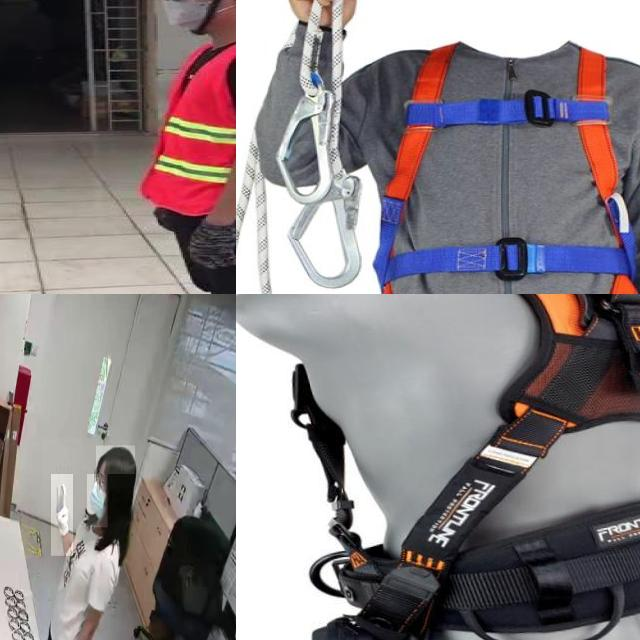Harness: (294, 294, 640, 640), (369, 43, 640, 294)
face_mask: (158, 0, 220, 31), (87, 474, 107, 527)
hand_glove: (184, 222, 236, 270), (51, 474, 73, 556)
head_nohelmet: (96, 445, 136, 475)
person: (111, 0, 236, 294), (42, 439, 141, 640)
vest: (140, 32, 236, 218)
